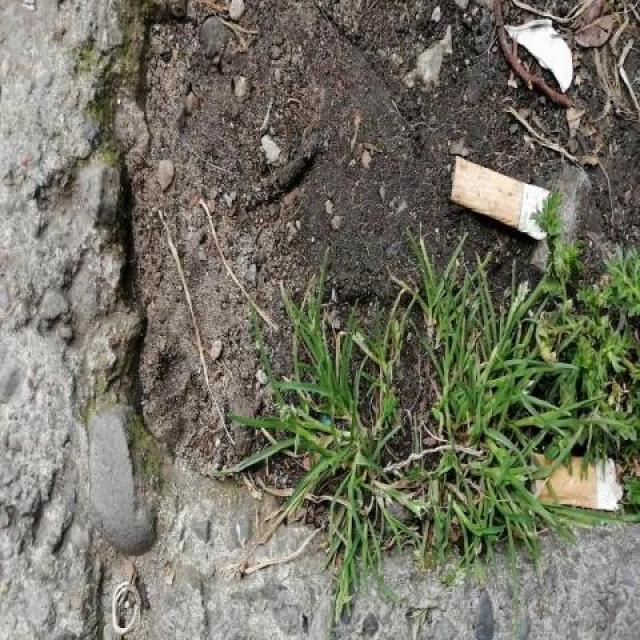non-organic waste: (444, 151, 556, 249), (526, 441, 627, 519)
